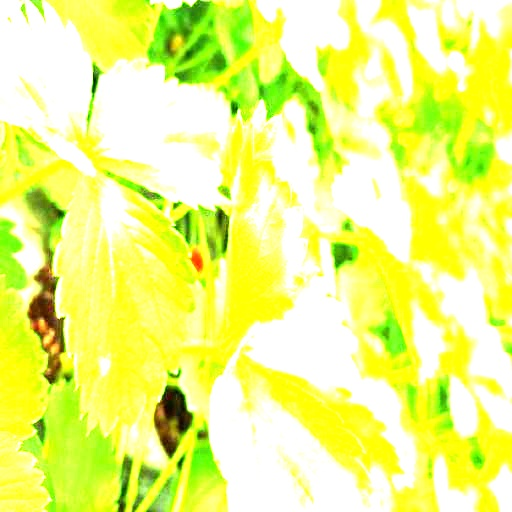Powdery Mildew Leaf: (53, 171, 199, 437), (220, 100, 310, 357)
